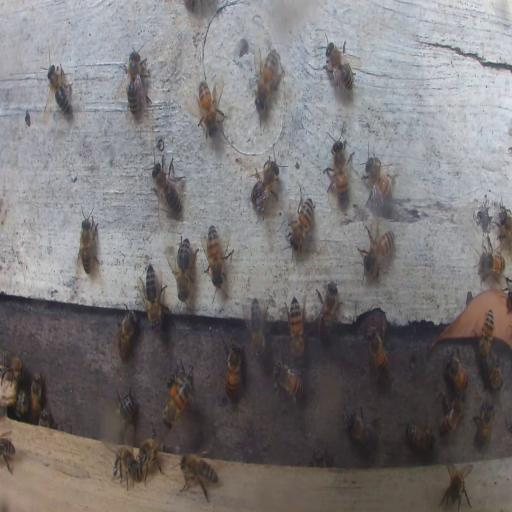nonpollenbee: (356, 224, 396, 281), (152, 155, 186, 214), (326, 128, 352, 204), (178, 451, 218, 500), (138, 262, 166, 329), (204, 224, 233, 287), (121, 49, 147, 119), (251, 154, 280, 216), (322, 40, 355, 94), (440, 460, 474, 512), (195, 72, 223, 135), (255, 50, 282, 111), (288, 190, 314, 253), (363, 153, 396, 202), (314, 278, 339, 342), (45, 62, 73, 118), (346, 404, 380, 449), (174, 232, 196, 298), (274, 360, 304, 404), (471, 400, 495, 449), (137, 435, 163, 480), (249, 296, 267, 360), (437, 392, 463, 436), (116, 308, 138, 358), (222, 342, 242, 396), (80, 213, 97, 276), (288, 296, 304, 362), (113, 446, 137, 489), (367, 324, 388, 372), (445, 352, 469, 394), (404, 422, 436, 452), (479, 306, 495, 360), (478, 248, 506, 278), (116, 389, 135, 427), (0, 352, 22, 382), (29, 372, 43, 418), (0, 435, 16, 473), (499, 208, 512, 245), (14, 386, 28, 418), (489, 356, 501, 390), (312, 449, 330, 467), (39, 407, 52, 427)
pollenbee: (164, 375, 194, 430)
